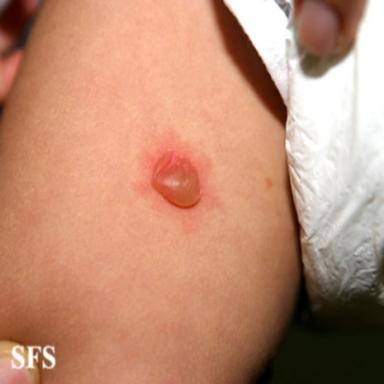Impetigo: (132, 136, 220, 233)
